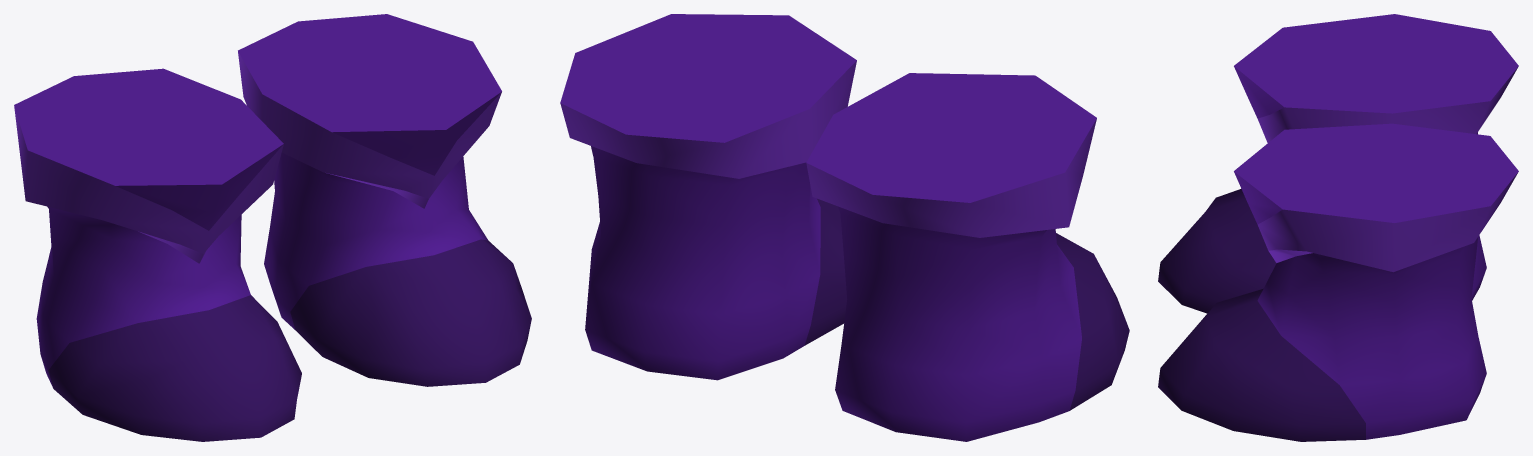
File: Shoes_38.fbx
3 views of the same model, side by side, from view 1: azimuth 30°, elevation 25°; view 2: azimuth 150°, elevation 25°; view 3: azimuth 270°, elevation 25° (orthographic). The views are drawn at different scales.
Parts seen in each view (by area): view 1: Shoes_38; view 2: Shoes_38; view 3: Shoes_38.
Part boxes in pixels (x1=…): Shoes_38: x1=14, y1=14, x2=531, y2=441; Shoes_38: x1=560, y1=14, x2=1129, y2=441; Shoes_38: x1=1158, y1=14, x2=1518, y2=441.
Bounding box in the file's own units: 41.47 × 20.24 × 29.86.
